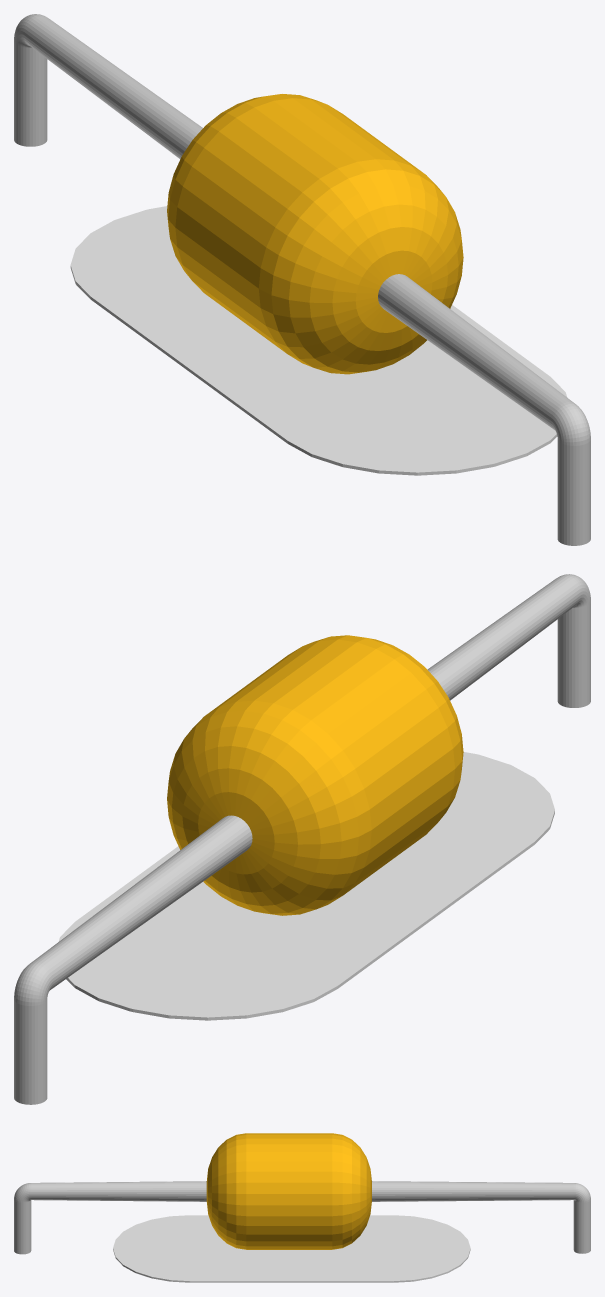
The picture shows the model from 3 angles, top to bottom: view 1: azimuth 30°, elevation 25°; view 2: azimuth 150°, elevation 25°; view 3: azimuth 270°, elevation 25°; orthographic projection. The views are drawn at different scales.
Parts seen in each view (by area): view 1: Y_5, Y_5_plane; view 2: Y_5, Y_5_plane; view 3: Y_5, Y_5_plane.
Boxes of the visible parts, left/top/right/bottom form: Y_5: left=14, top=14, right=590, bottom=545; Y_5_plane: left=70, top=206, right=567, bottom=475; Y_5: left=14, top=574, right=590, bottom=1104; Y_5_plane: left=58, top=752, right=554, bottom=1020; Y_5: left=14, top=1133, right=590, bottom=1254; Y_5_plane: left=113, top=1215, right=470, bottom=1282.
Bounding box in the file's own units: 0.018 × 0.0143 × 0.0666.
